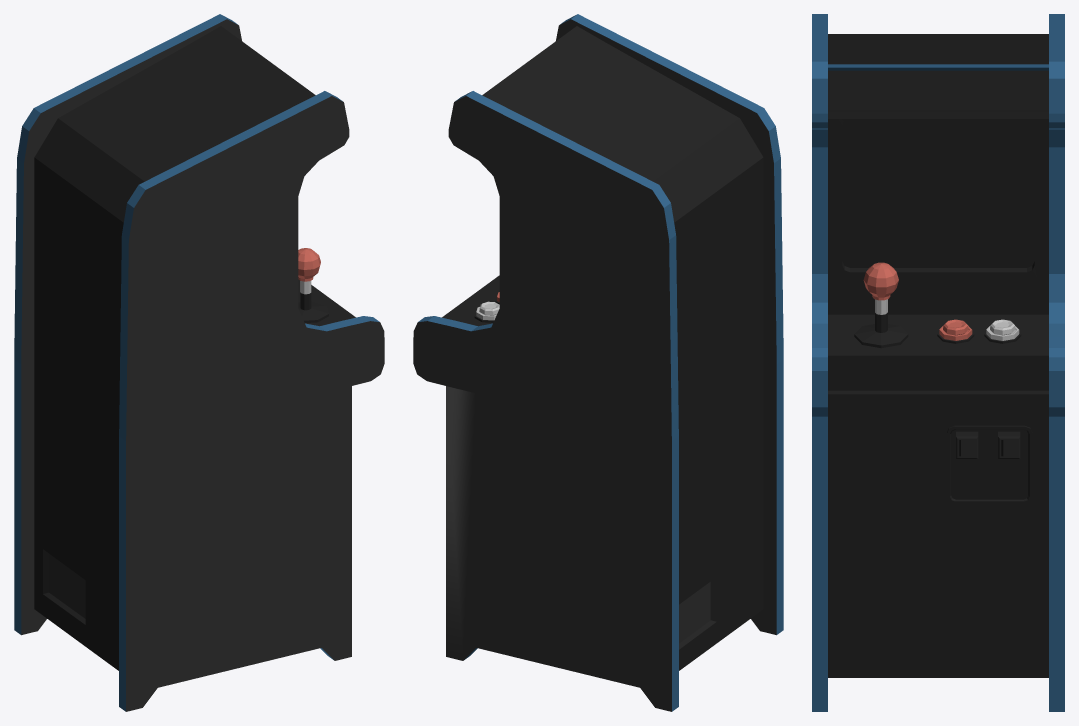
The model's file is scifi-arcade.glb.
The picture shows the model from 3 angles, left to right: view 1: azimuth 30°, elevation 25°; view 2: azimuth 150°, elevation 25°; view 3: azimuth 270°, elevation 25°; orthographic projection. The views are drawn at different scales.
Parts seen in each view (by area): view 1: ArcadeMachine_Cube.002; view 2: ArcadeMachine_Cube.002; view 3: ArcadeMachine_Cube.002.
Boxes of the visible parts, left/top/right/bottom form: ArcadeMachine_Cube.002: left=14, top=14, right=384, bottom=711; ArcadeMachine_Cube.002: left=413, top=14, right=783, bottom=711; ArcadeMachine_Cube.002: left=812, top=14, right=1064, bottom=711.
Size of the model in its own units: 1.24 by 2.59 by 0.927.
